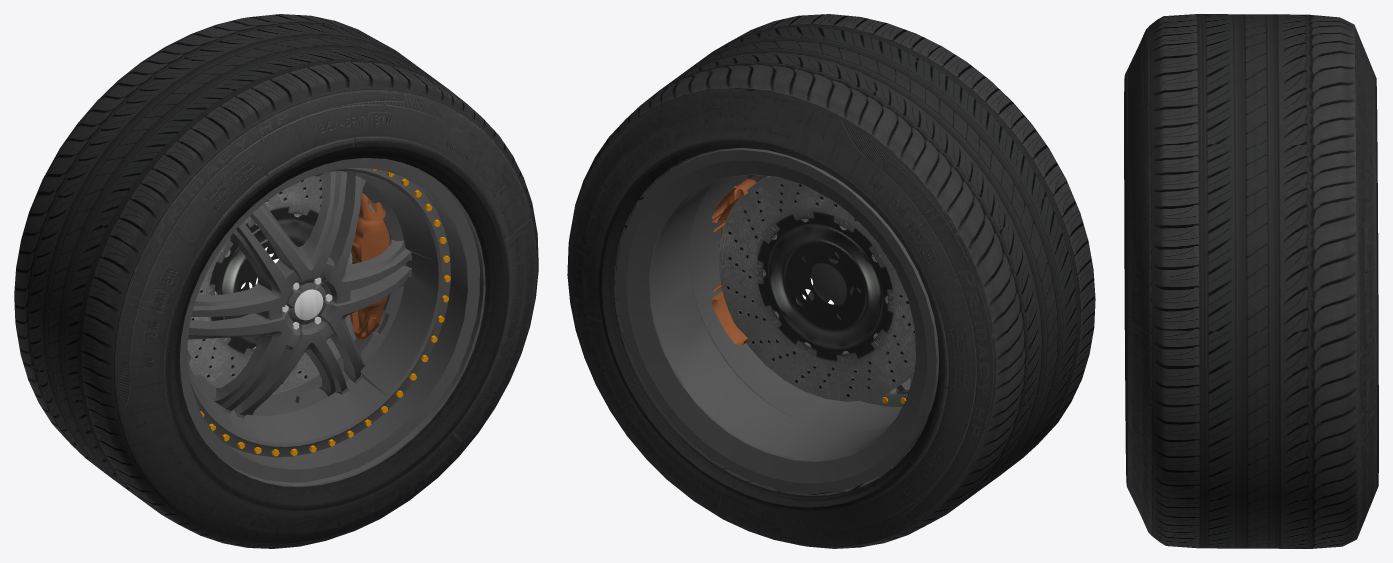
File: Tyre_Type_6.fbx
3 renders of one model, left to right at view 1: azimuth 30°, elevation 25°; view 2: azimuth 150°, elevation 25°; view 3: azimuth 270°, elevation 25°, orthographic. The views are drawn at different scales.
Visible parts, largest first — view 1: Rubber, Rim6, Rim, Disc, Caliper, Outer Screws; view 2: Rubber, Rim, Disc, Rim6, Caliper; view 3: Rubber.
Part boxes in pixels (box(x1,y1,x2,y2)): Rubber: box(14, 14, 538, 548); Rim6: box(187, 168, 450, 457); Rim: box(180, 158, 485, 486); Disc: box(187, 176, 374, 394); Caliper: box(350, 193, 390, 339); Outer Screws: box(200, 169, 450, 456); Rubber: box(567, 14, 1095, 548); Rim: box(617, 148, 939, 493); Disc: box(719, 176, 915, 401); Rim6: box(730, 175, 913, 406); Caliper: box(711, 178, 756, 345); Rubber: box(1124, 14, 1378, 548).
Bounding box in the file's own units: 55.47 × 55.36 × 26.42.
